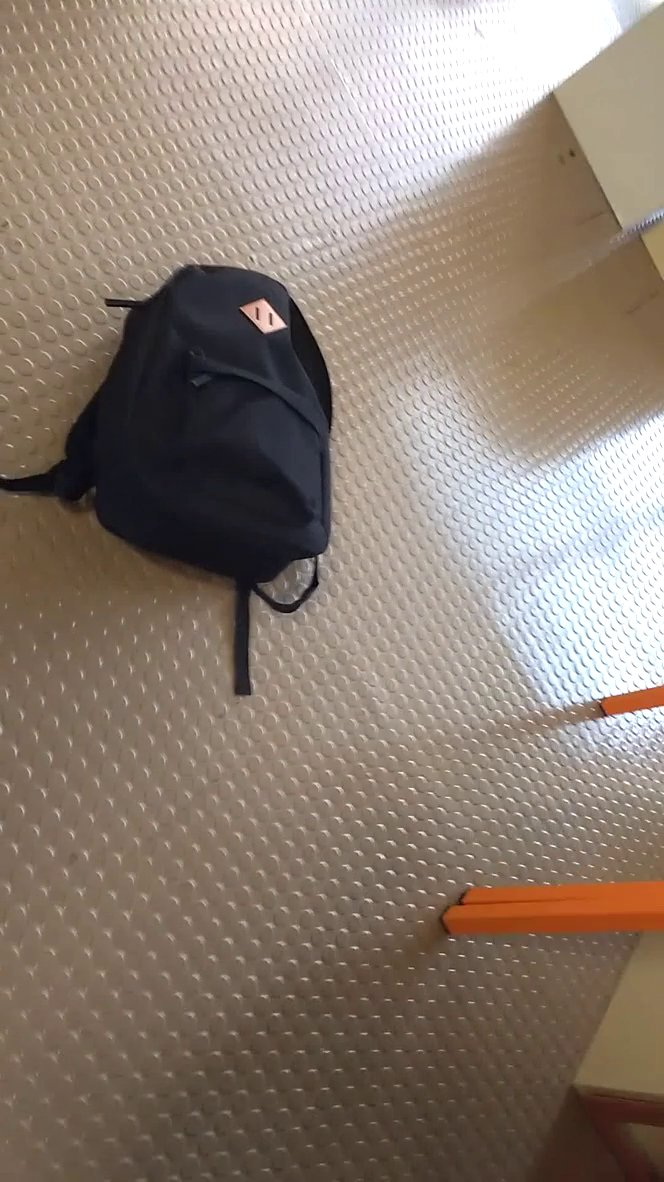bag: (1, 228, 347, 714)
